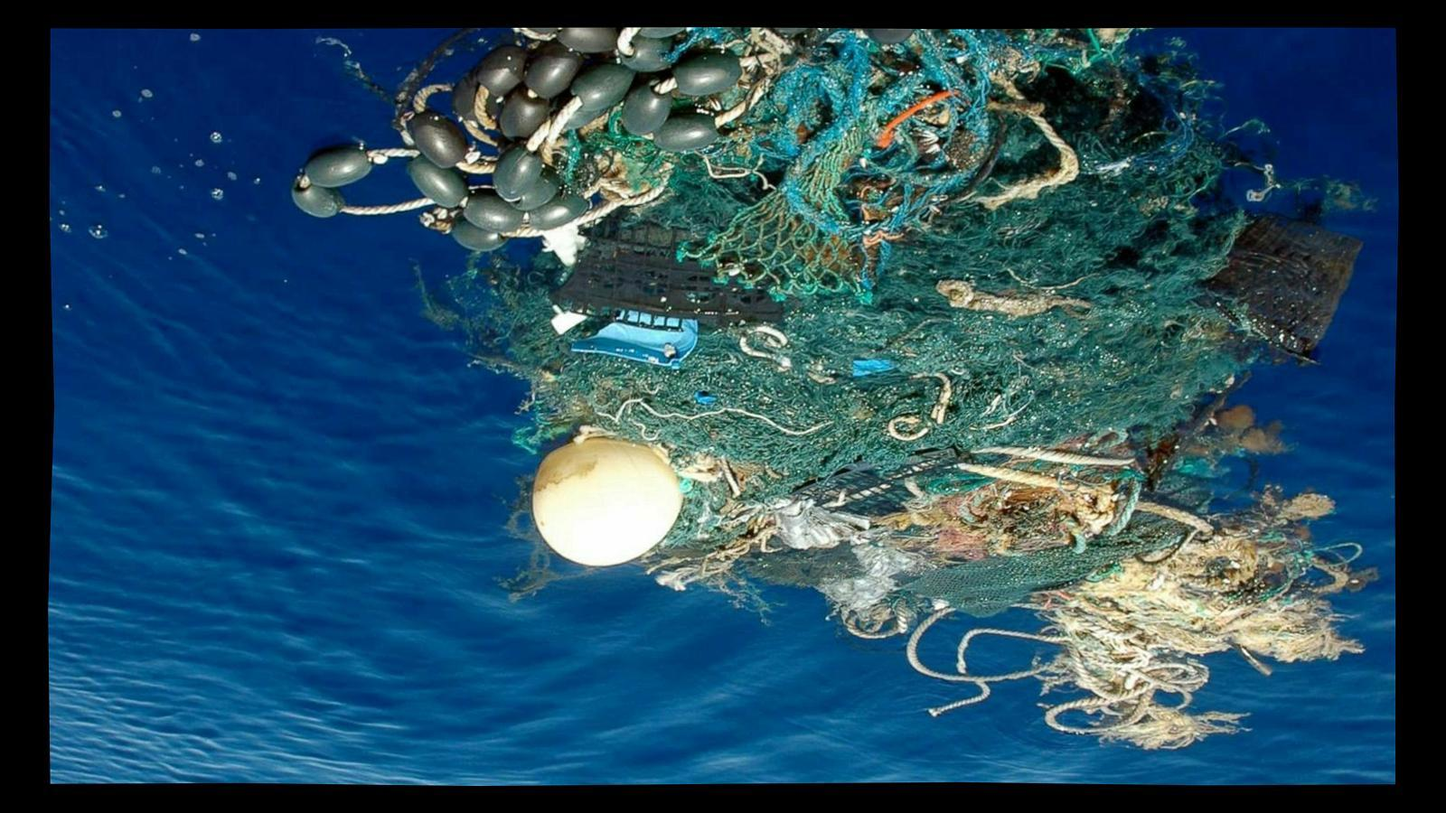Plastic Pollution: (548, 40, 1155, 567)
